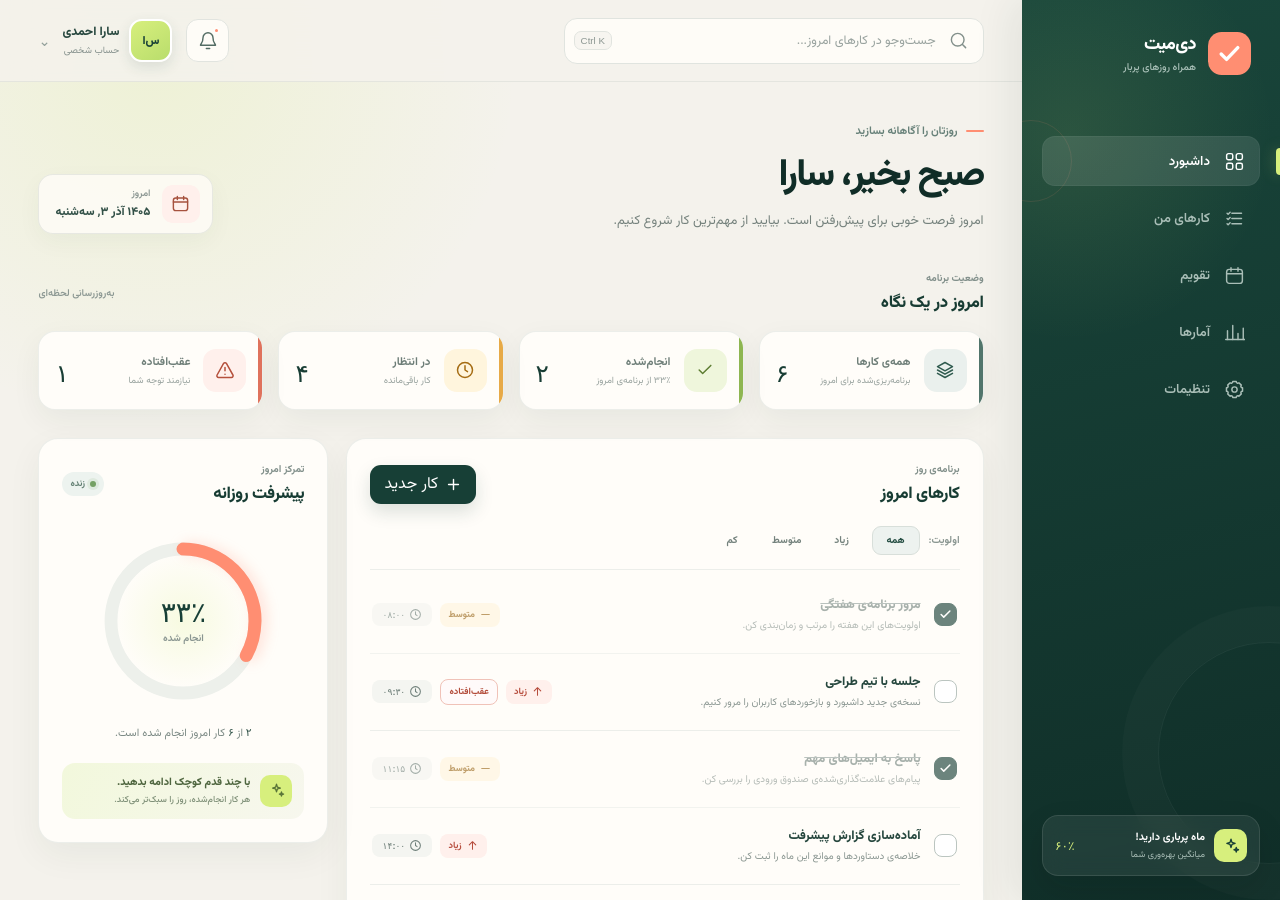
Test case: task management dashboard › updates daily progress immediately when a task is completed
Click the checkbox named "انجام کار جلسه با تیم طراحی". click: (946, 692)
box: [934,680,958,704]
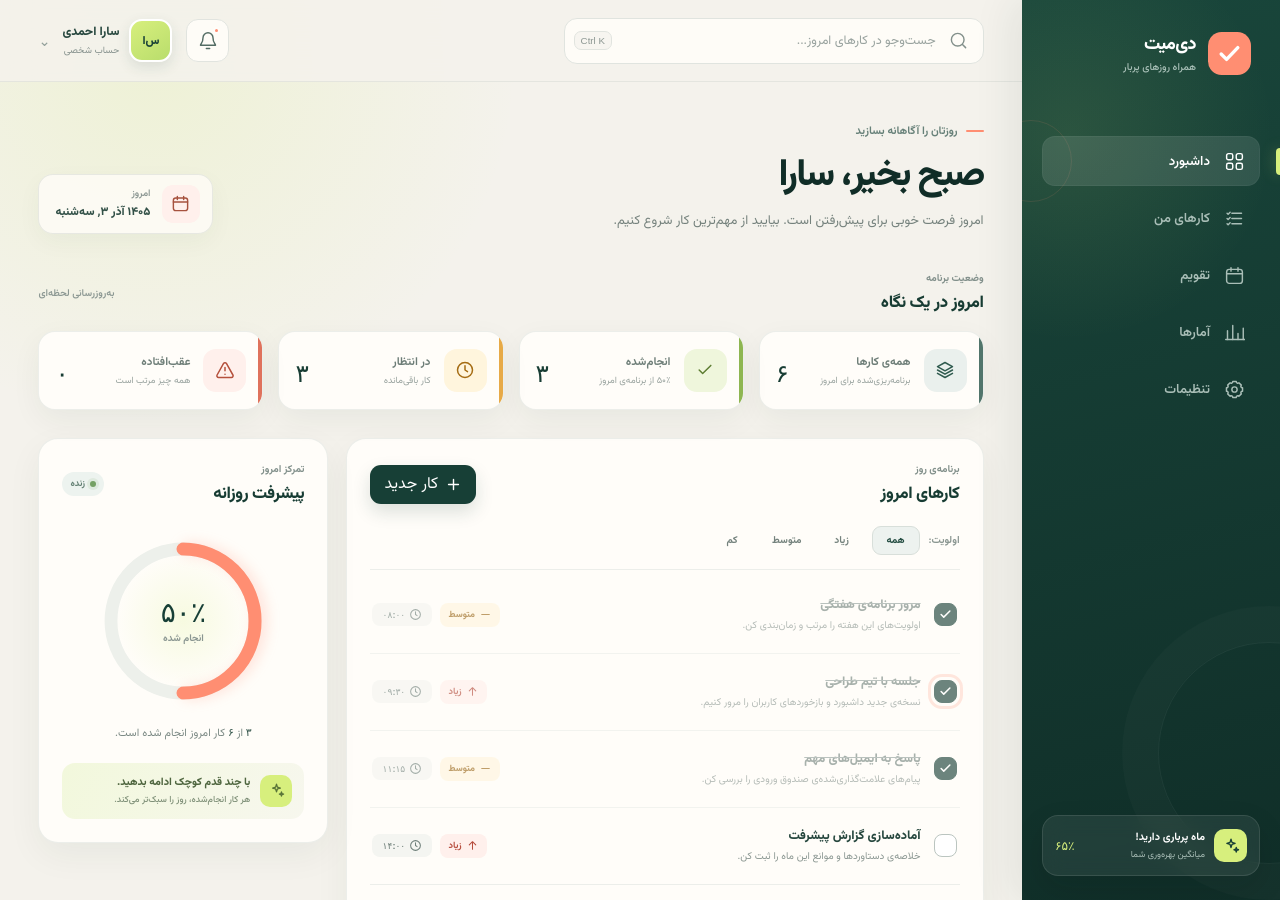
Expected: the checkbox named "انجام کار جلسه با تیم طراحی" is checked, [934,680,958,704]
Expected: the checkbox named "بازگرداندن کار جلسه با تیم طراحی" is checked, [934,680,958,704]
Expected: the element named "پیشرفت روزانه 50 درصد" is shown, [93,531,273,711]
